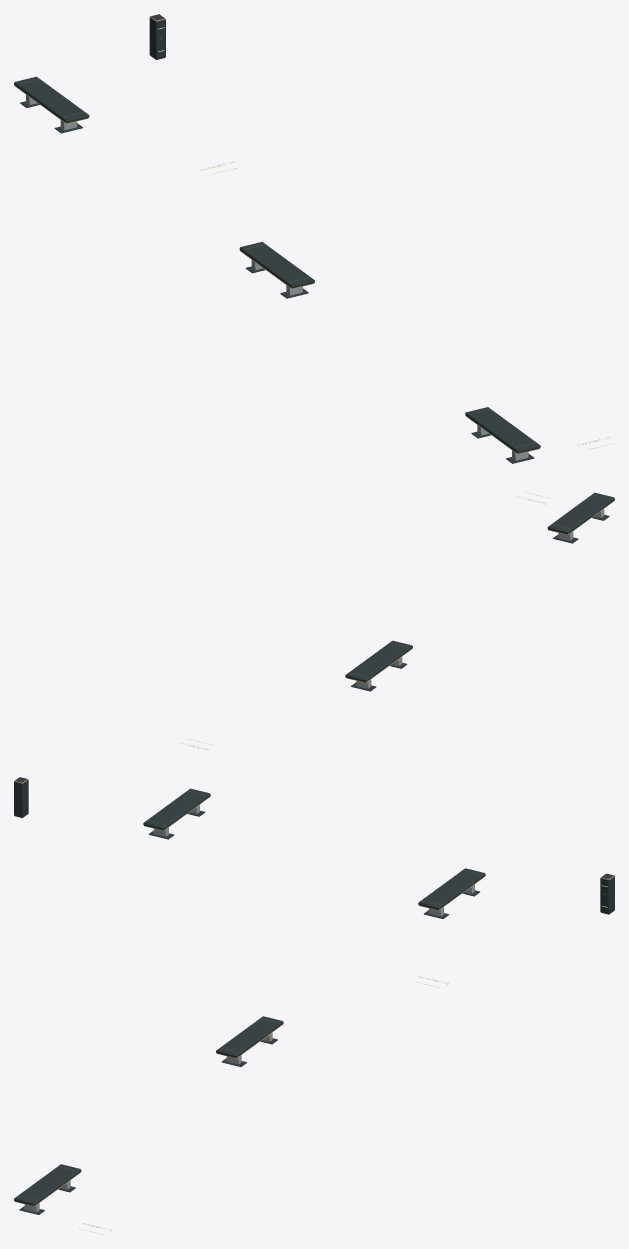
Rendered from A-atelier-west.glb.
The picture shows the model from 3 angles, top to bottom: view 1: azimuth 30°, elevation 25°; view 2: azimuth 150°, elevation 25°; view 3: azimuth 330°, elevation 25°; orthographic projection. The views are drawn at different scales.
Parts seen in each view (by area): view 1: A-atelier-west; view 2: A-atelier-west; view 3: A-atelier-west.
Boxes of the visible parts, x1,y1,x2,y2 form: A-atelier-west: [14, 14, 613, 463]; A-atelier-west: [14, 492, 614, 839]; A-atelier-west: [14, 868, 614, 1234].
Bounding box in the file's own units: 4.82 × 1.16 × 27.38.
